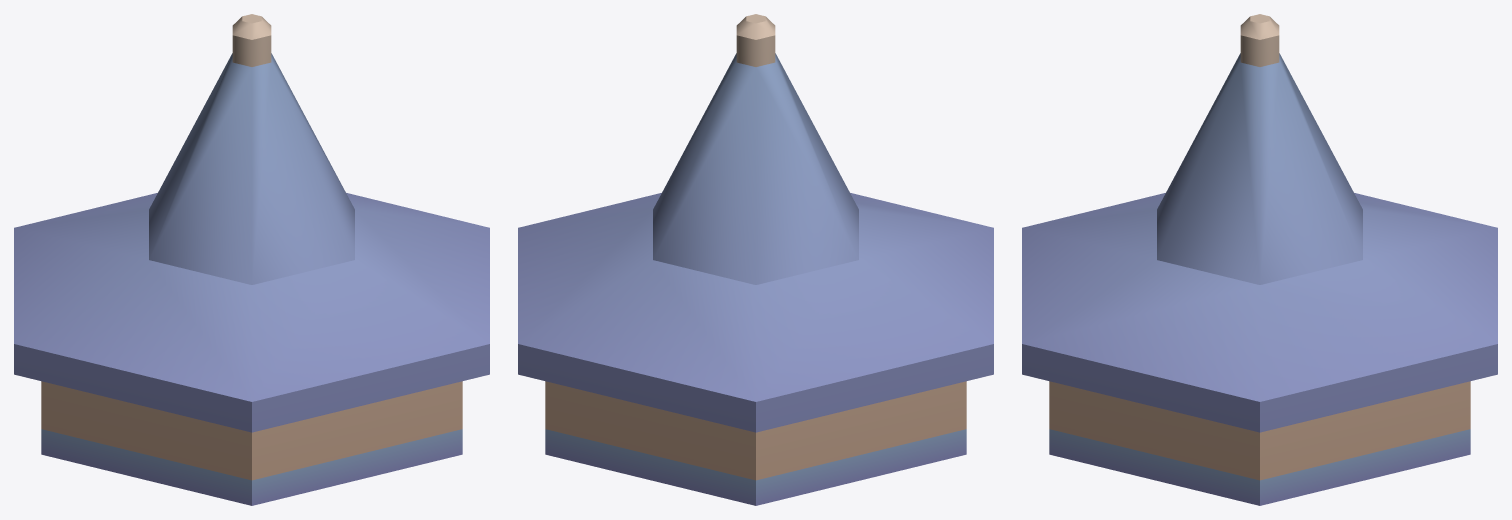
File: tower-hexagon-roof-secondary.glb
The picture shows the model from 3 angles, left to right: view 1: azimuth 30°, elevation 25°; view 2: azimuth 150°, elevation 25°; view 3: azimuth 270°, elevation 25°; orthographic projection.
Parts seen in each view (by area): view 1: tower-hexagon-roof-secondary; view 2: tower-hexagon-roof-secondary; view 3: tower-hexagon-roof-secondary.
Boxes of the visible parts, left/top/right/bottom form: tower-hexagon-roof-secondary: left=14, top=14, right=489, bottom=505; tower-hexagon-roof-secondary: left=518, top=14, right=993, bottom=505; tower-hexagon-roof-secondary: left=1022, top=14, right=1497, bottom=505.
Bounding box in the file's own units: 0.9763 × 0.7537 × 0.8455.
